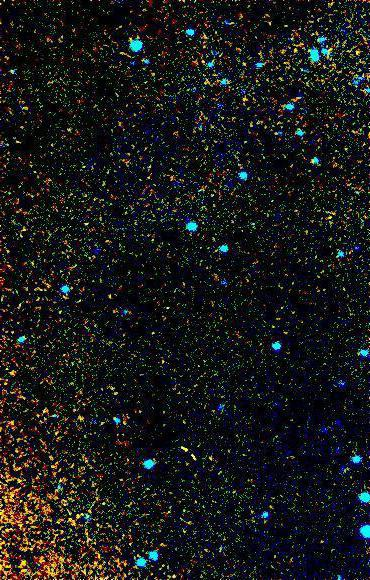star: (229, 78, 259, 108)
